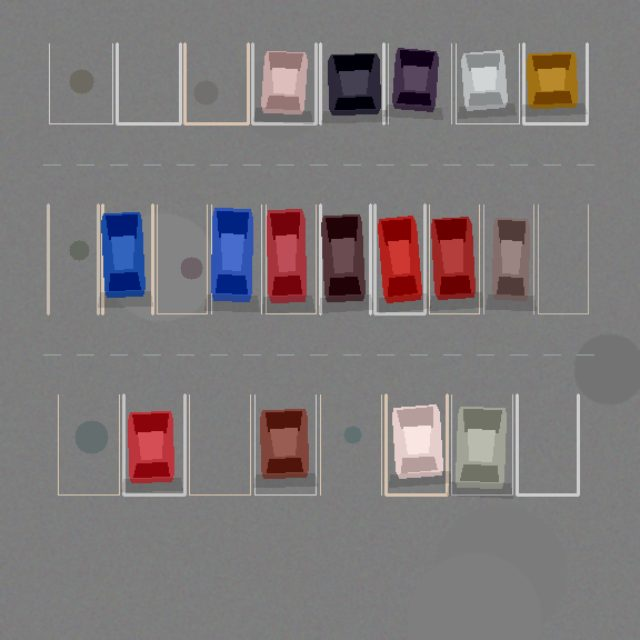space-empty: (58, 394, 119, 494), (189, 394, 250, 494), (320, 394, 381, 494), (517, 394, 578, 494), (48, 204, 98, 313), (157, 204, 207, 313), (538, 204, 588, 313), (184, 43, 248, 123), (49, 43, 112, 123), (117, 43, 180, 123)
space-occupied: (254, 394, 316, 494), (123, 394, 184, 494), (386, 394, 447, 494), (451, 394, 512, 494), (102, 204, 152, 313), (211, 204, 261, 313), (266, 204, 316, 313), (320, 204, 370, 313), (374, 204, 424, 313), (429, 204, 479, 313), (483, 204, 533, 313), (252, 43, 316, 123), (523, 43, 587, 123), (320, 43, 383, 123), (388, 43, 451, 123), (456, 43, 519, 123)
